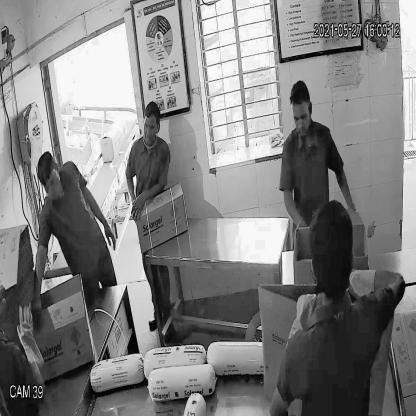no_goggles: (289, 105, 314, 127)
